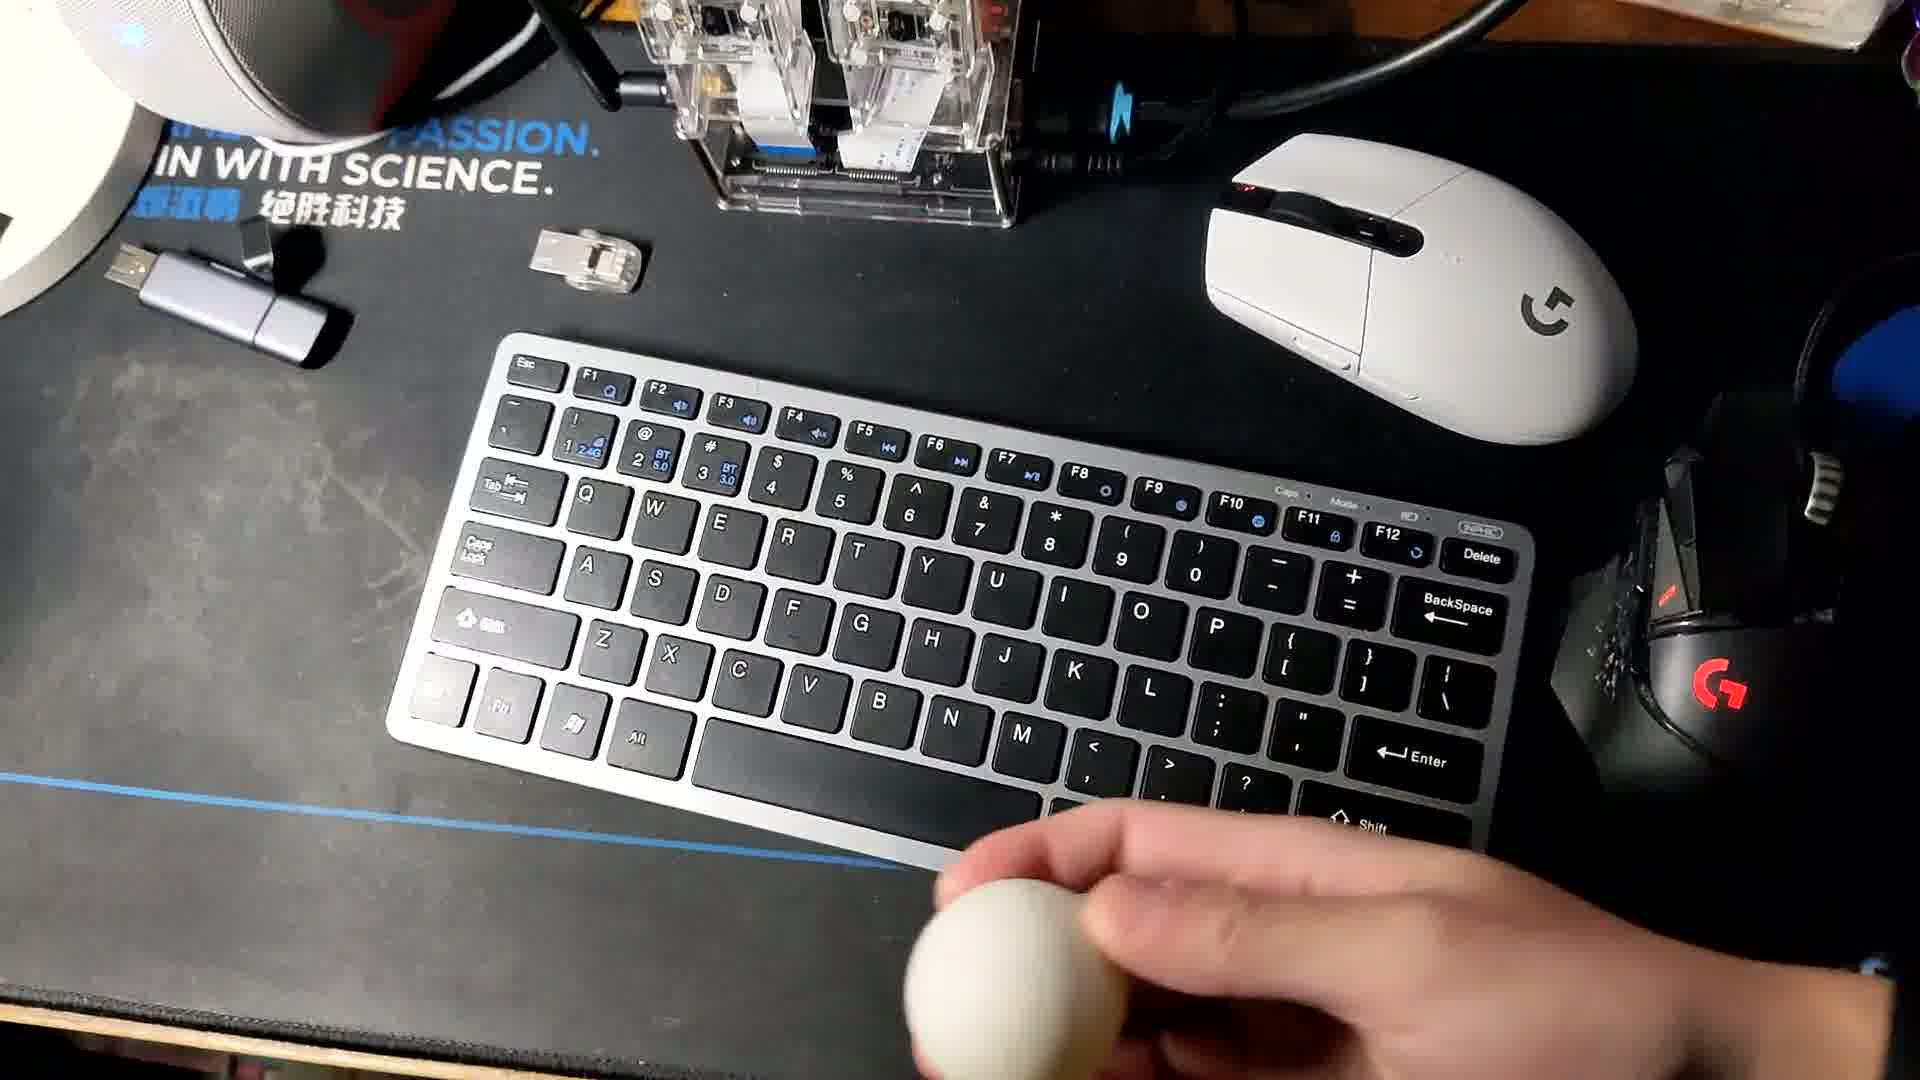Ball: (903, 880, 1135, 1080)
